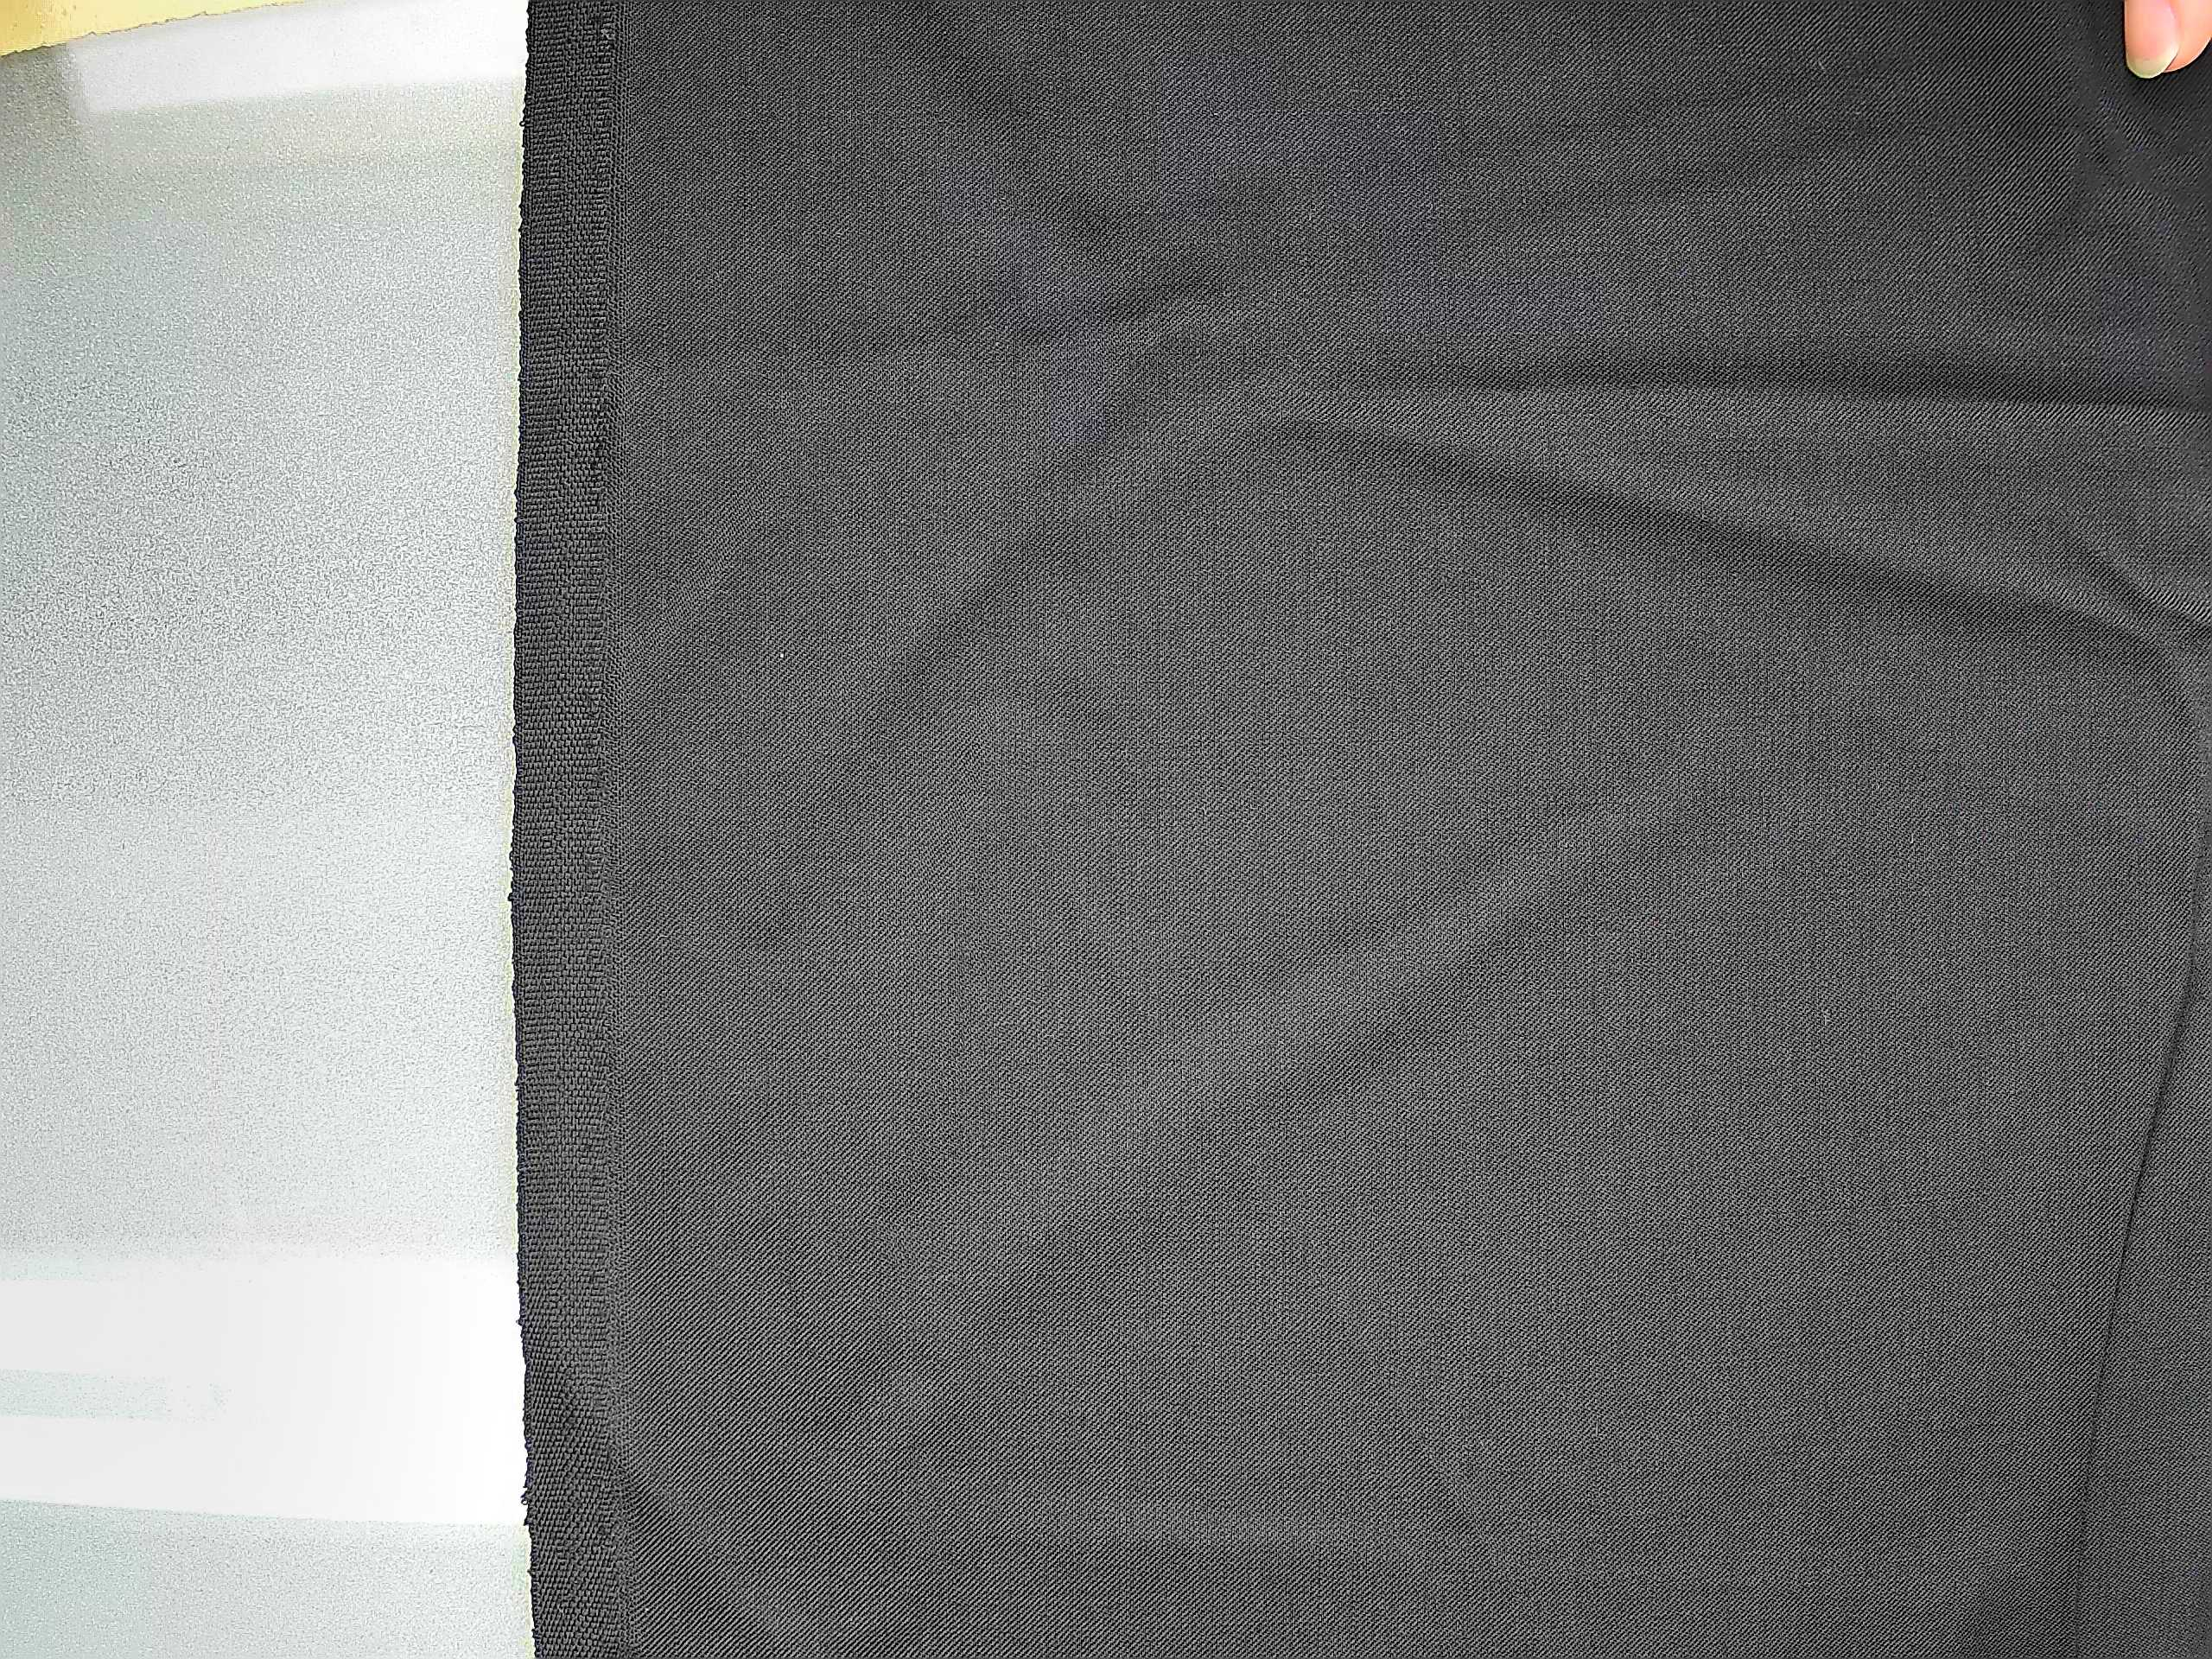others: (650, 153, 681, 1262)
